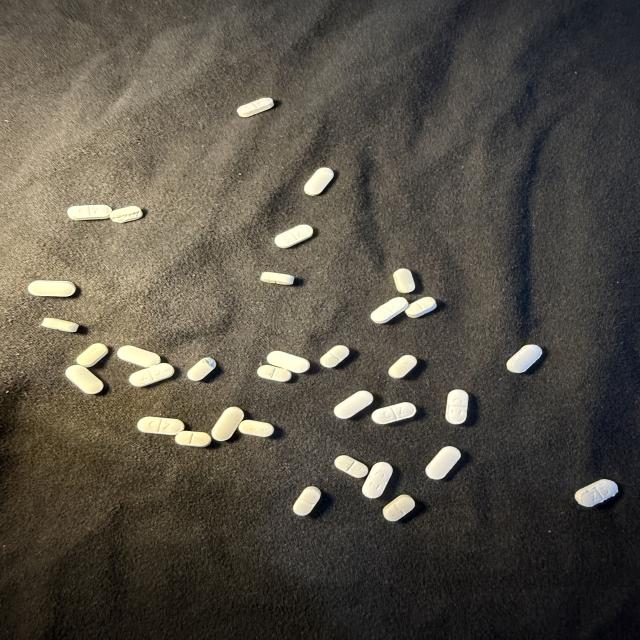pill: (575, 480, 618, 507), (426, 446, 460, 479), (334, 391, 373, 419), (212, 407, 244, 441), (129, 363, 174, 387), (362, 462, 392, 498), (66, 365, 103, 394), (507, 345, 542, 373), (372, 402, 416, 424), (371, 297, 408, 323), (267, 351, 310, 373), (117, 346, 160, 367), (275, 225, 313, 248), (137, 417, 184, 435), (383, 495, 415, 521), (293, 486, 321, 515), (304, 168, 333, 195), (334, 455, 368, 478), (236, 98, 274, 118), (28, 280, 75, 296), (446, 390, 468, 424), (76, 343, 108, 366), (405, 297, 437, 318), (187, 358, 216, 381), (67, 205, 111, 220), (389, 355, 417, 378), (320, 345, 349, 367), (238, 420, 274, 437), (257, 365, 291, 382), (175, 431, 211, 447), (109, 206, 142, 222), (394, 269, 415, 293), (42, 318, 78, 332), (260, 272, 294, 285)
